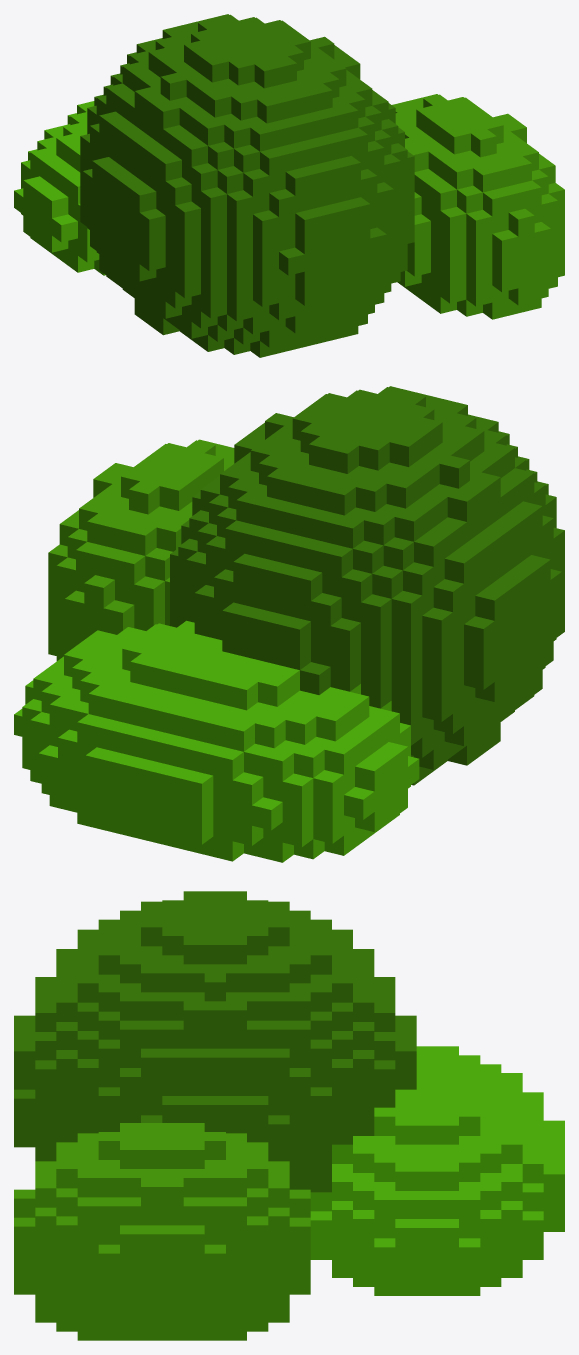
File: pusikko.gltf
The picture shows the model from 3 angles, top to bottom: view 1: azimuth 30°, elevation 25°; view 2: azimuth 150°, elevation 25°; view 3: azimuth 270°, elevation 25°; orthographic projection. The views are drawn at different scales.
Visible parts, largest first — view 1: Layer.2; view 2: Layer.2; view 3: Layer.2.
Part boxes in pixels (bbox=[...]): Layer.2: bbox=[14, 14, 564, 357]; Layer.2: bbox=[14, 386, 564, 862]; Layer.2: bbox=[14, 891, 564, 1340].
Size of the model in its own units: 24 by 15 by 26.
1 material, 1 textured.
